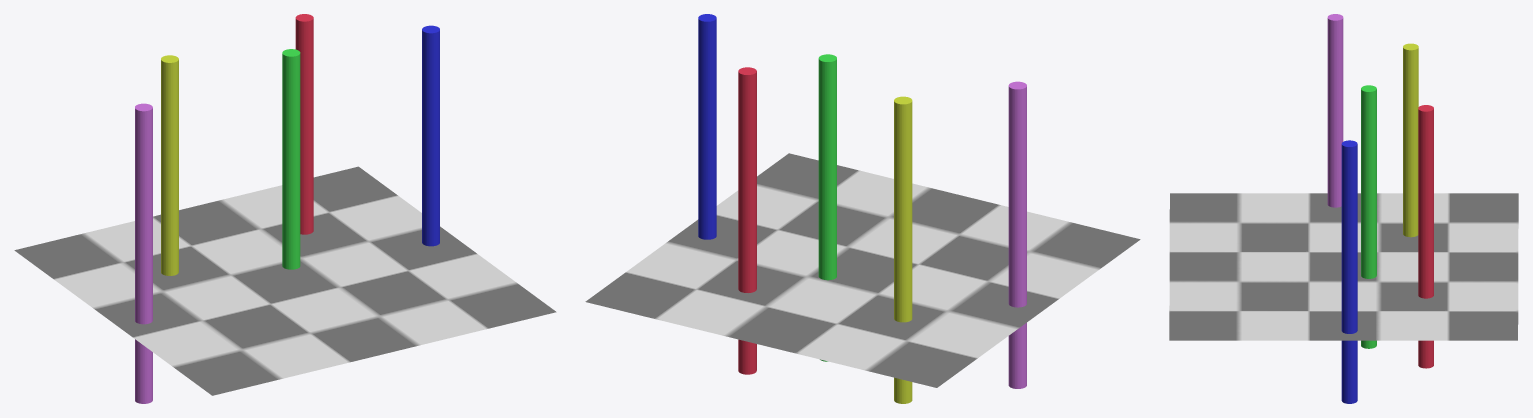
File: simplified_demonstrations.gltf
The picture shows the model from 3 angles, left to right: view 1: azimuth 30°, elevation 25°; view 2: azimuth 150°, elevation 25°; view 3: azimuth 270°, elevation 25°; orthographic projection. The views are drawn at different scales.
Parts seen in each view (by area): view 1: Cylinder.002; view 2: Cylinder.002; view 3: Cylinder.002.
Part boxes in pixels (x1=…): Cylinder.002: x1=14, y1=14, x2=556, y2=403; Cylinder.002: x1=585, y1=14, x2=1140, y2=403; Cylinder.002: x1=1169, y1=14, x2=1518, y2=403.
Size of the model in its own units: 176 by 142 by 176.
Materials: 1 (1 with a texture image).
